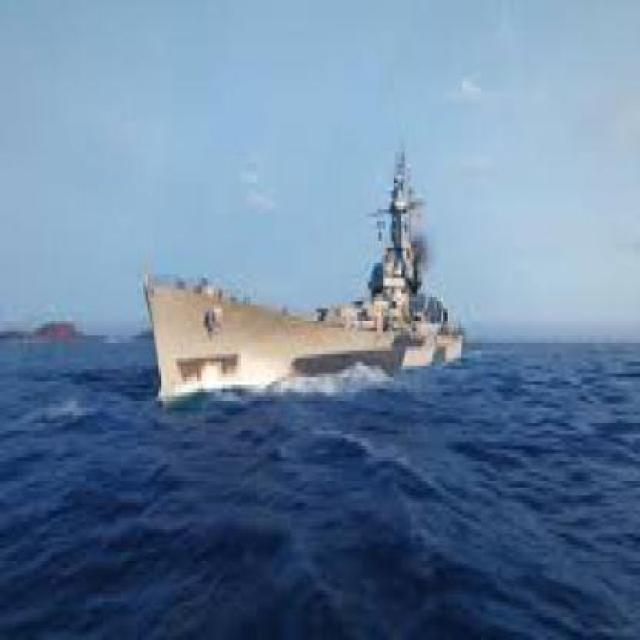warship2: (138, 93, 478, 420)
